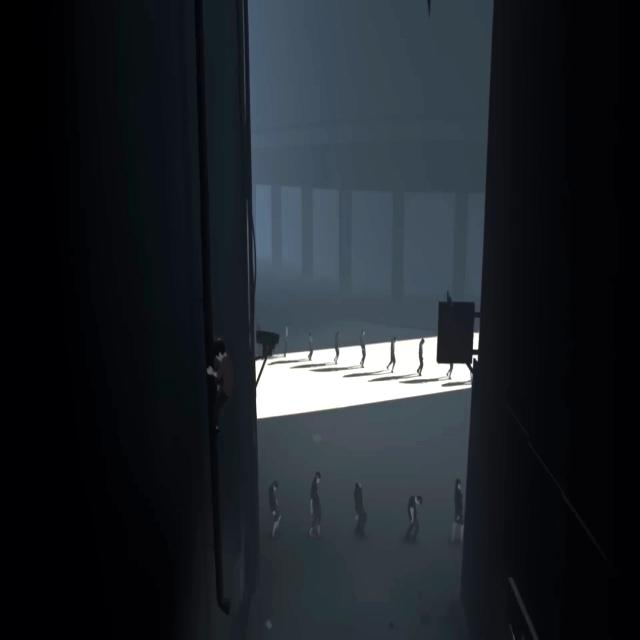boy: (207, 337, 234, 434)
zombie: (450, 478, 464, 543), (403, 496, 423, 540), (353, 482, 368, 535), (310, 472, 322, 538), (268, 479, 281, 537), (386, 337, 396, 373), (417, 338, 425, 376), (333, 332, 340, 364), (283, 326, 290, 356), (360, 329, 365, 368), (308, 333, 314, 360)
